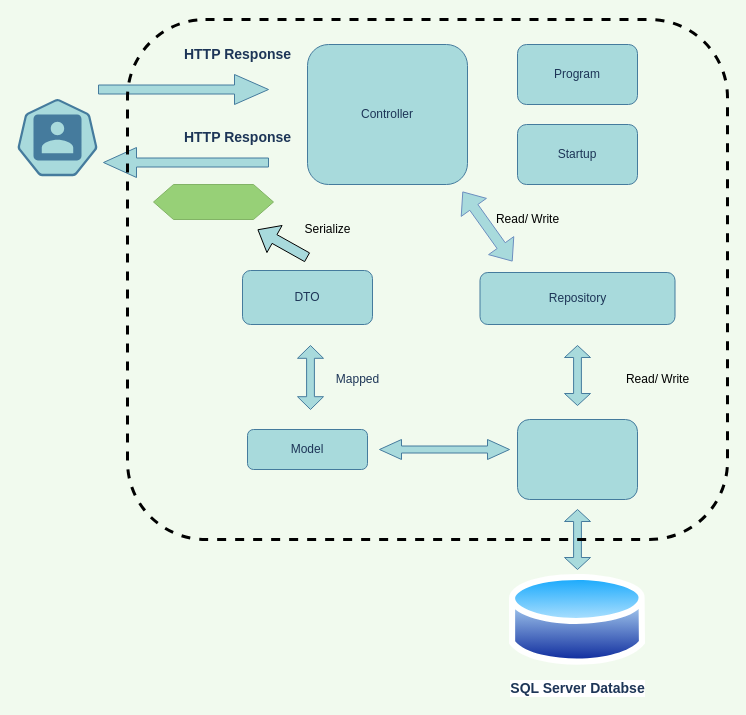
Image size: 746x715. Some labels were removed from this diagram. Each missing label, with the centre of its shape:
"API Client Swagger" belongs at [57,137].
"Data Access (DB Context)" belongs at [577,459].
"JSON" belongs at [213,202].
